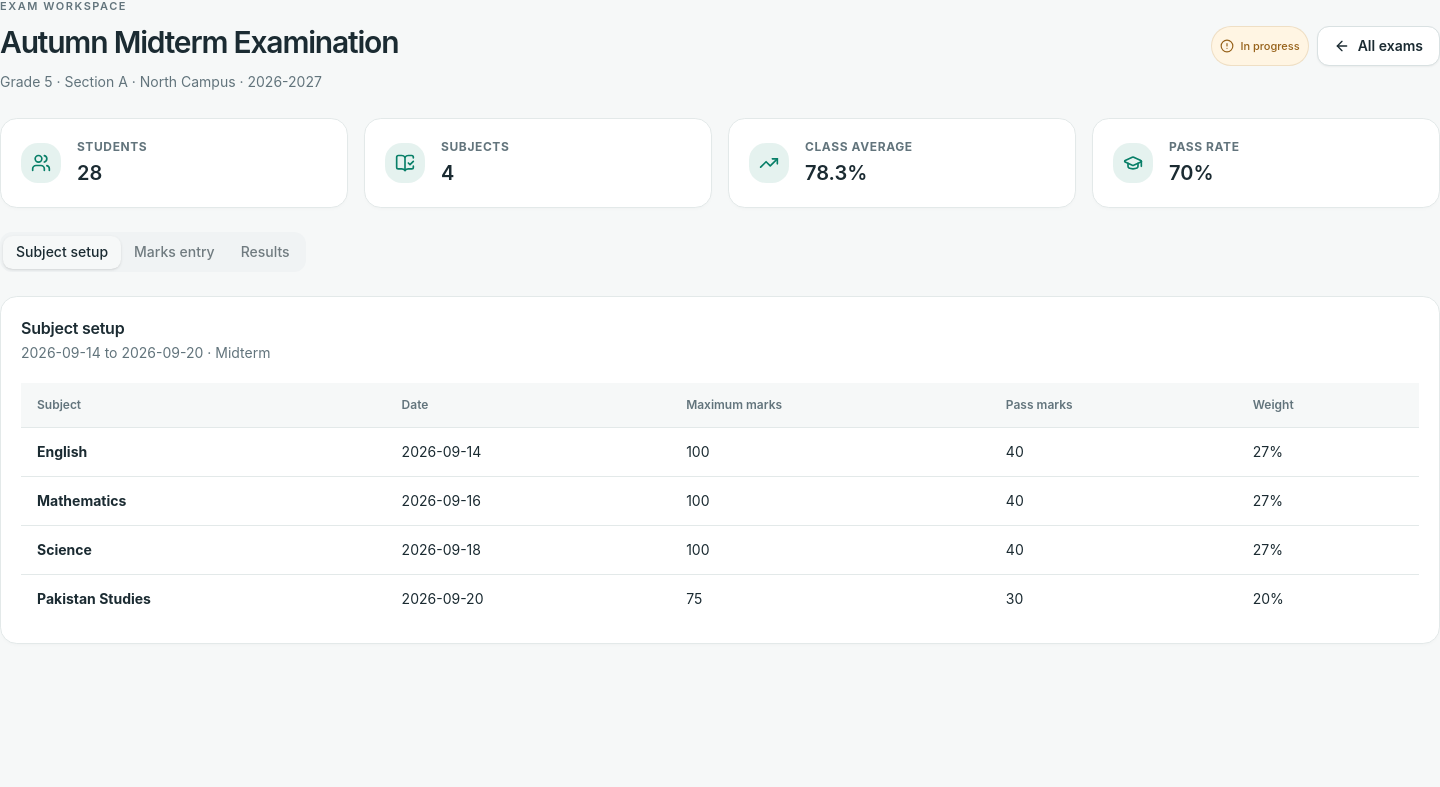
Scenario: exam management pages › supports subject setup, guarded marks entry, and result tables
Check: the tab "Subject setup" is shown, box [3, 236, 121, 269]
Click the tab "Marks entry": (174, 252) [121, 236, 228, 269]
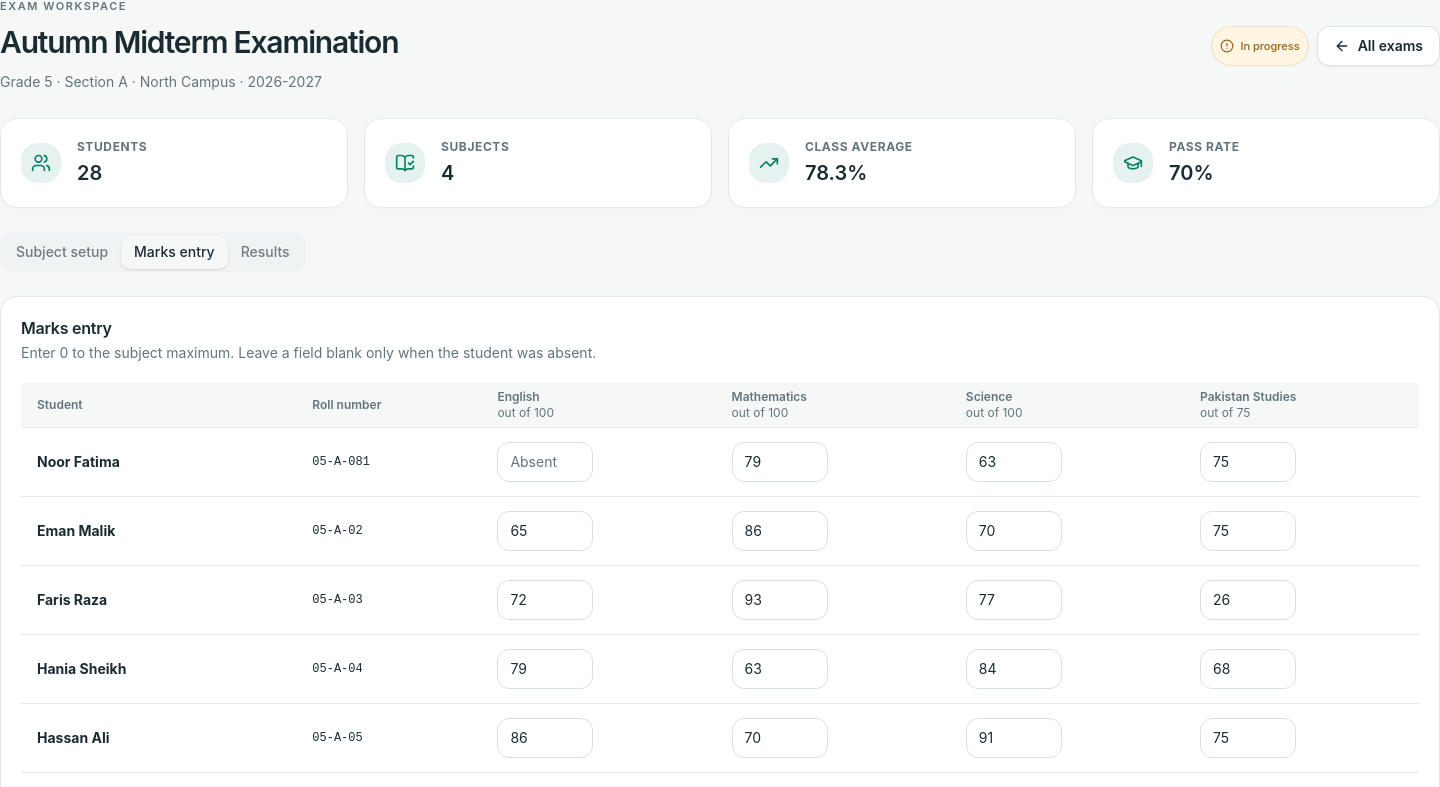
In the number field with placeholder "Absent": (545, 462) [497, 442, 593, 482], type "101"
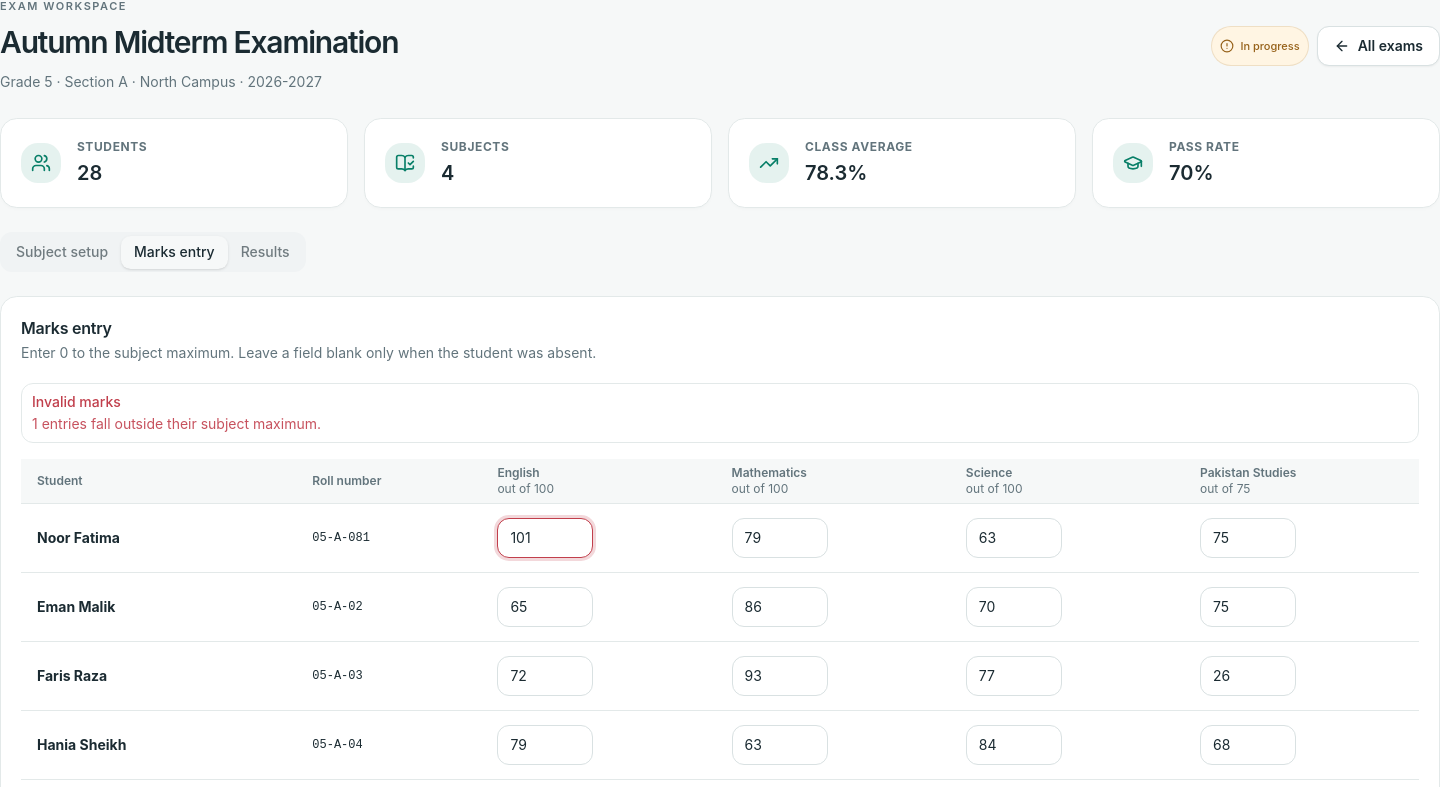
Check: the text "Invalid marks" is shown, box [32, 394, 121, 410]
Replace the text in the number field named "English marks for Noor Fatima" with "88": (545, 538) [497, 518, 593, 558]
(page scrolled)
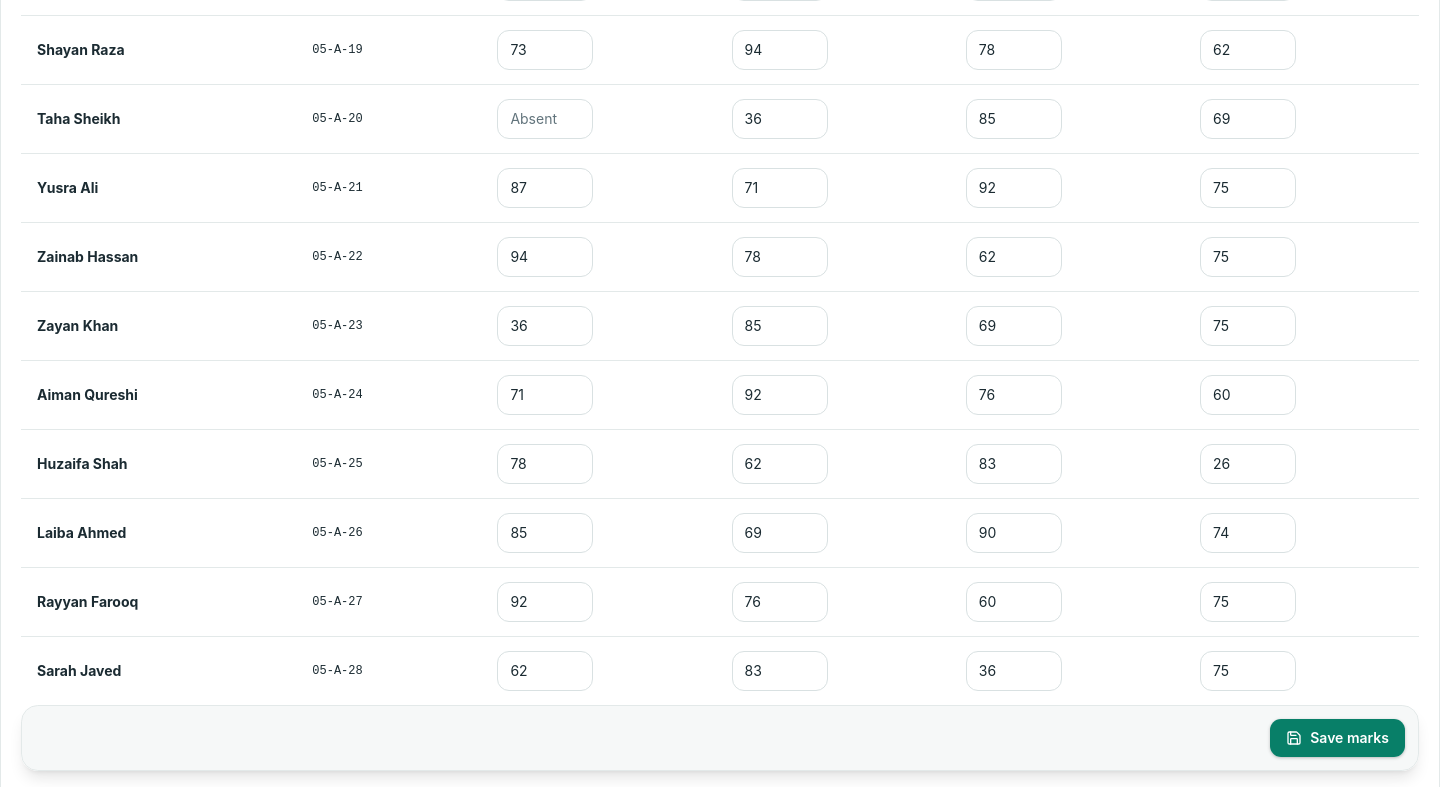
Click the button "Save marks": (1338, 738) [1269, 718, 1406, 758]
(page scrolled)
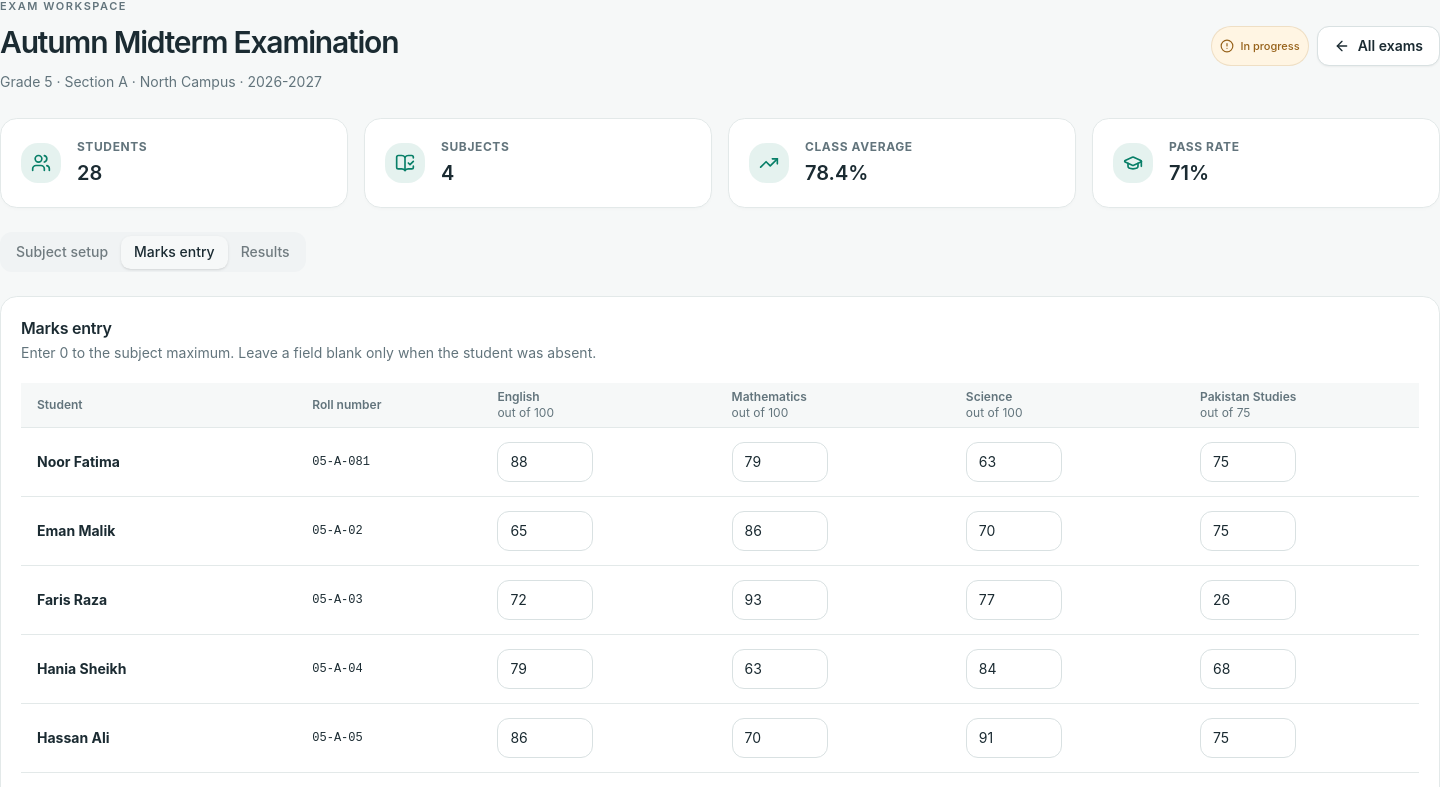
Click the tab "Results": (265, 252) [228, 236, 303, 269]
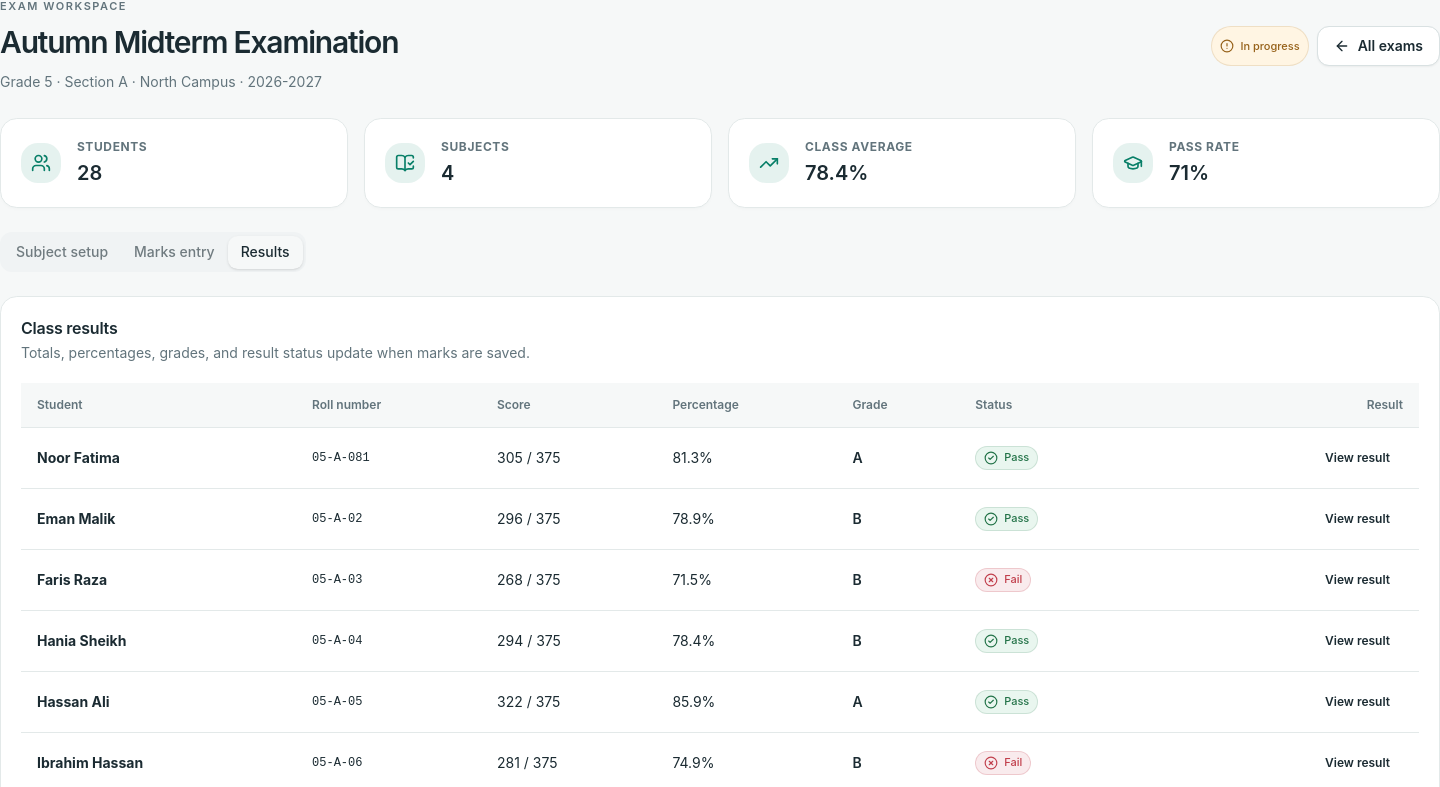
Check: the text "Class results" is shown, box [21, 318, 117, 338]
Check: the column heading "Grade" is shown, box [836, 384, 959, 428]
